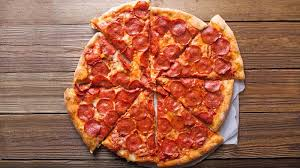pizza: (75, 5, 242, 159)
